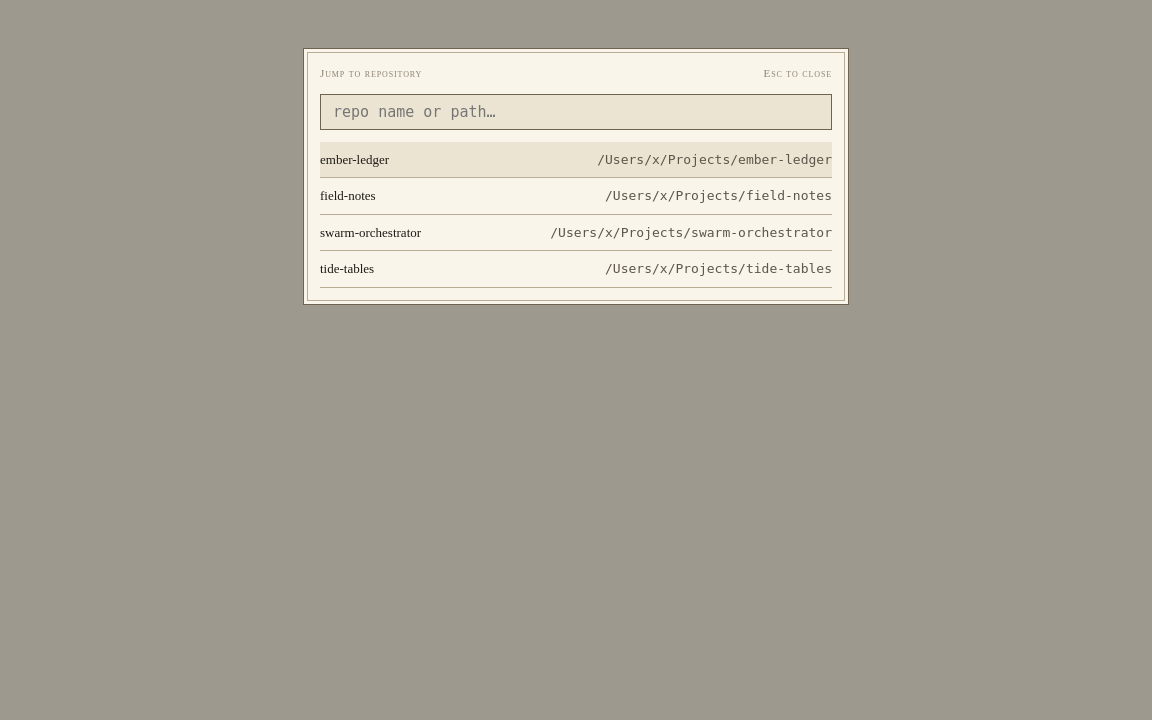
Scenario: CommandPalette › typing narrows the results fuzzily ("swm" matches the swarm-ish repo only)
Type "swm" into the field named "search repositories".
click(576, 112); type("swm")  # box [320,94,832,130]
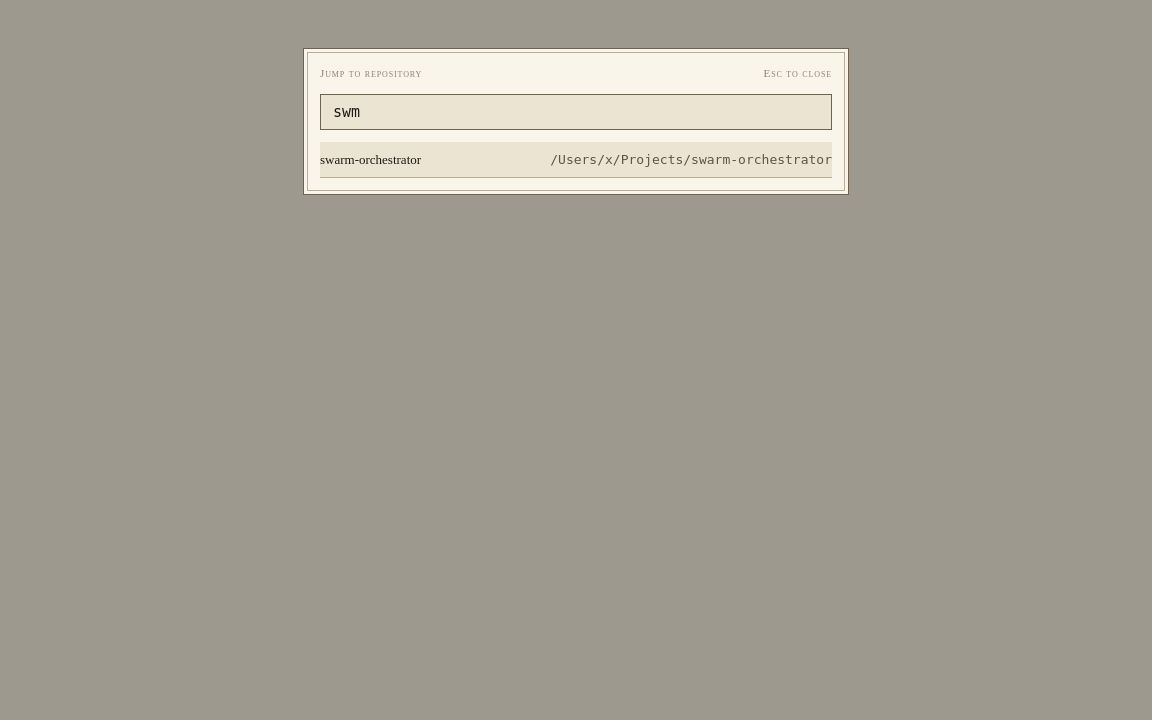
Result: the number of options is 1 at [320,142,832,178]
